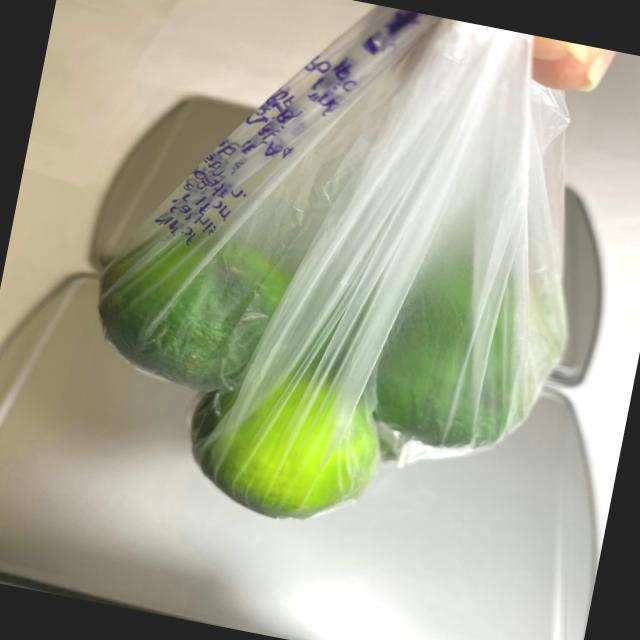lemon: (59, 168, 582, 572)
